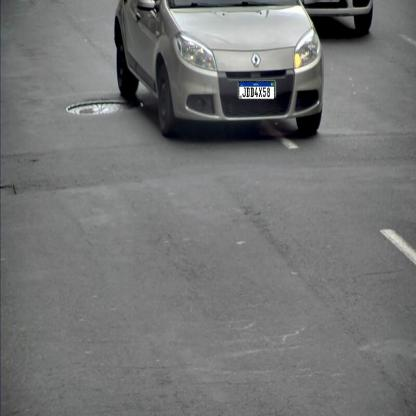PlacaM: (238, 81, 274, 100)
